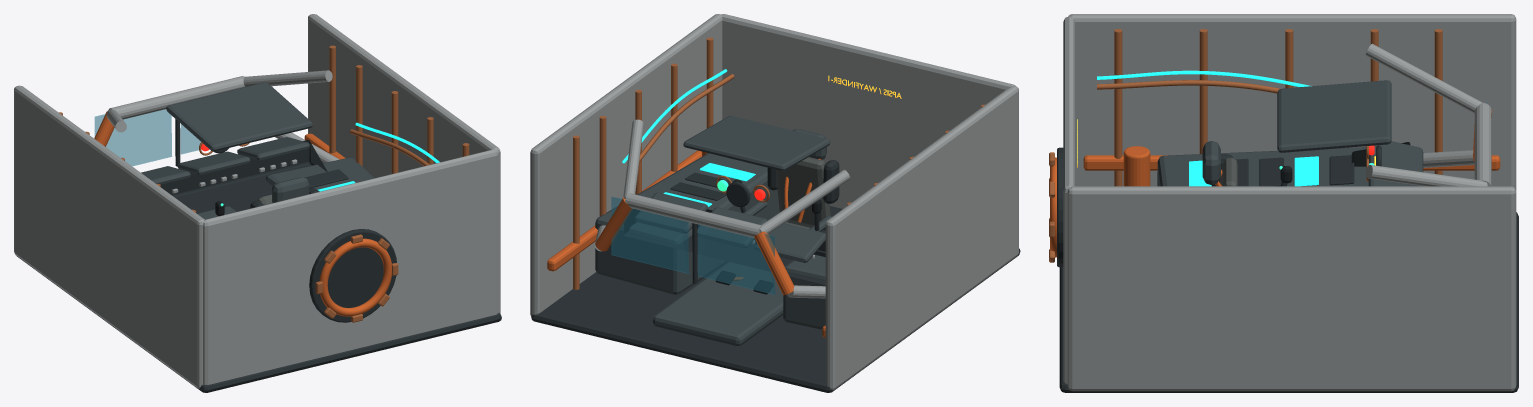
The model's file is wayfinder-cockpit.glb.
3 renders of one model, left to right at view 1: azimuth 30°, elevation 25°; view 2: azimuth 150°, elevation 25°; view 3: azimuth 270°, elevation 25°, orthographic. The views are drawn at different scales.
Parts seen in each view (by area): view 1: Rear pressure bulkhead, Side wall -1, Side wall +1, Overhead panel, Forward instrument brow, Rear iris hatch, Pressure floor, Left canopy pane, Rear hatch seal, Canopy crown, Side console shell +1, MFD bezel SYSTEM (+9 smaller); view 2: Side wall -1, Rear pressure bulkhead, Side wall +1, Pressure floor, Side console shell +1, Raised central deck, Overhead panel, Right canopy pane, Left canopy pane, Forward instrument brow, Side console shell -1, Seat back (+20 smaller); view 3: Side wall +1, Side wall -1, Overhead panel, Side console shell -1, Rear pressure bulkhead, Pressure floor, Canopy upper longeron -1, Canopy upper longeron +1, Canopy crown, Wall rib -1 -2.8, MFD bezel NAV, Wall crash rail -1 (+15 smaller).
Part boxes in pixels (left/top/right/bottom): Rear pressure bulkhead: left=203, top=149, right=498, bottom=384; Side wall -1: left=14, top=85, right=204, bottom=388; Side wall +1: left=308, top=14, right=500, bottom=313; Overhead panel: left=166, top=82, right=312, bottom=151; Forward instrument brow: left=160, top=140, right=327, bottom=213; Rear iris hatch: left=309, top=229, right=396, bottom=322; Pressure floor: left=17, top=199, right=501, bottom=392; Left canopy pane: left=94, top=109, right=171, bottom=166; Rear hatch seal: left=319, top=238, right=391, bottom=316; Canopy crown: left=108, top=76, right=244, bottom=119; Side console shell +1: left=266, top=157, right=374, bottom=189; MFD bezel SYSTEM: left=237, top=137, right=309, bottom=160; Side wall -1: left=825, top=86, right=1018, bottom=390; Rear pressure bulkhead: left=721, top=14, right=1016, bottom=208; Side wall +1: left=530, top=14, right=722, bottom=316; Pressure floor: left=531, top=206, right=1020, bottom=392; Side console shell +1: left=595, top=153, right=779, bottom=294; Raised central deck: left=653, top=221, right=788, bottom=346; Overhead panel: left=683, top=115, right=830, bottom=170; Right canopy pane: left=611, top=197, right=688, bottom=273; Left canopy pane: left=698, top=224, right=775, bottom=294; Forward instrument brow: left=624, top=209, right=825, bottom=284; Side console shell -1: left=783, top=254, right=825, bottom=329; Seat back: left=776, top=157, right=830, bottom=230; Side wall +1: left=1067, top=186, right=1516, bottom=391; Side wall -1: left=1068, top=14, right=1516, bottom=190; Overhead panel: left=1277, top=80, right=1391, bottom=152; Side console shell -1: left=1157, top=147, right=1368, bottom=186; Rear pressure bulkhead: left=1063, top=16, right=1074, bottom=383; Pressure floor: left=1059, top=212, right=1518, bottom=392; Canopy upper longeron -1: left=1365, top=43, right=1482, bottom=113; Canopy upper longeron +1: left=1365, top=165, right=1487, bottom=186; Canopy crown: left=1474, top=103, right=1491, bottom=186; Wall rib -1 -2.8: left=1114, top=29, right=1122, bottom=186; MFD bezel NAV: left=1369, top=141, right=1423, bottom=172; Wall crash rail -1: left=1083, top=155, right=1500, bottom=170.
Bounding box in the file's own units: 7.88 × 4.26 × 8.8.
